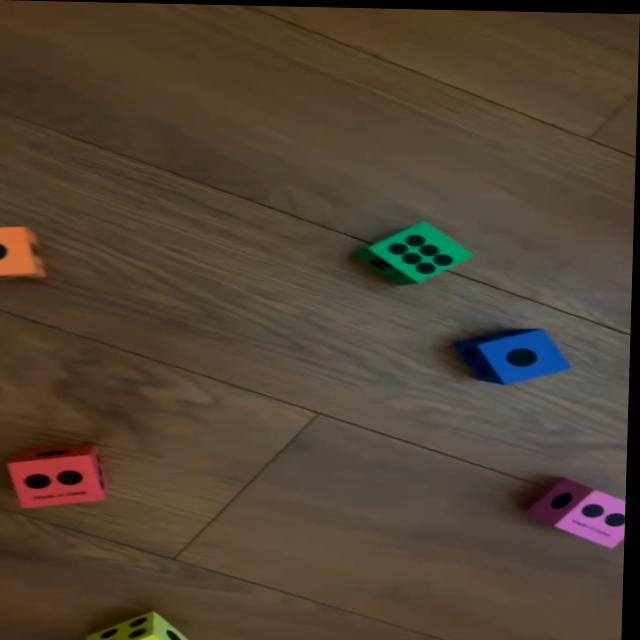blue_block: (460, 323, 575, 384)
red_block: (12, 440, 113, 509)
